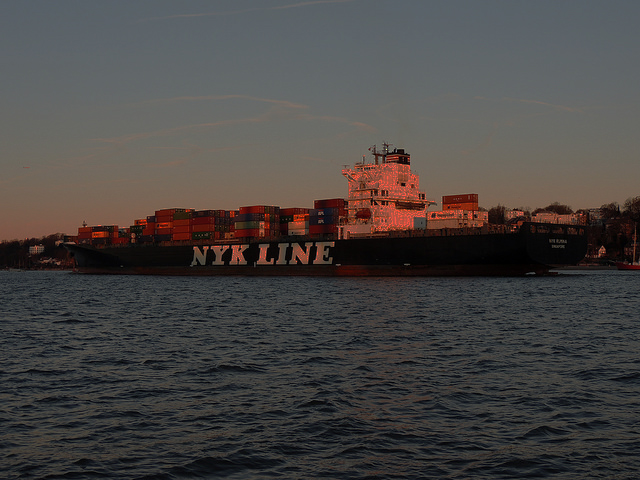container_ship: (63, 145, 593, 279)
